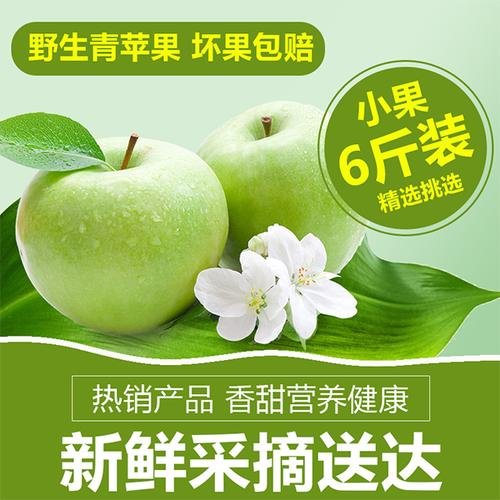unripe: (3, 125, 232, 343), (185, 98, 390, 290)
